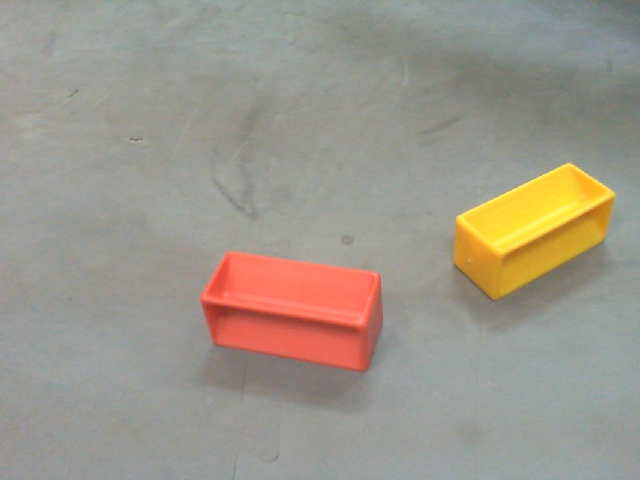RedSample: (196, 249, 386, 377)
YellowSample: (452, 161, 615, 301)
